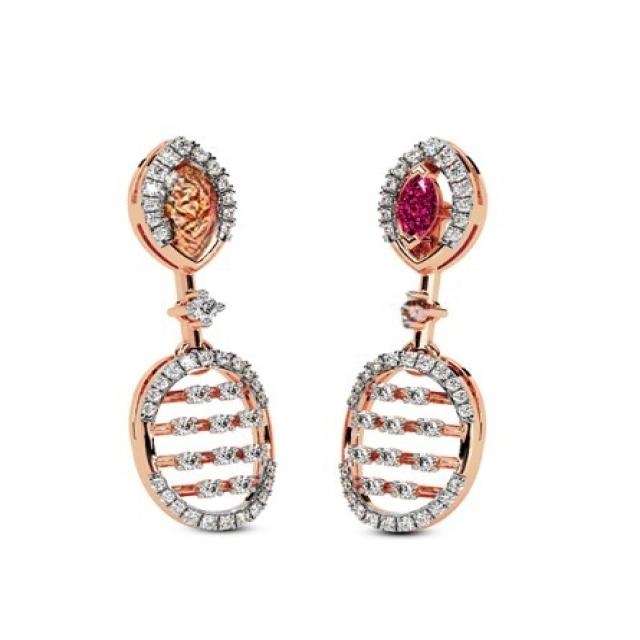missing gem: (172, 166, 216, 261), (404, 299, 424, 323)
